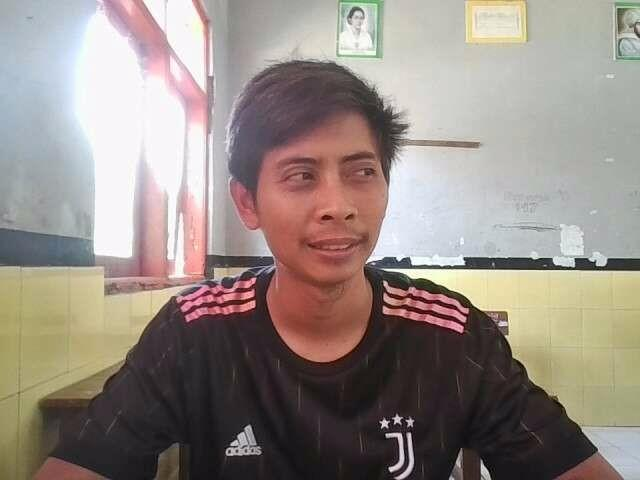cheating: (210, 57, 414, 304)
